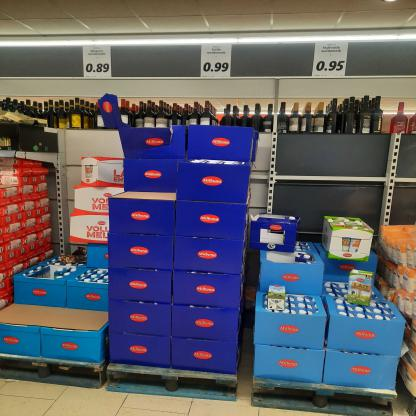prtg: (313, 44, 350, 78), (201, 46, 233, 78), (84, 47, 113, 78)
